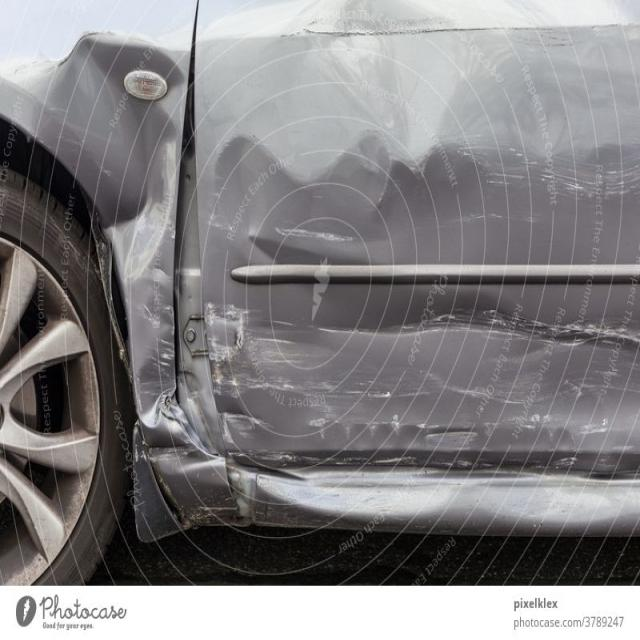crush: (0, 0, 640, 540)
